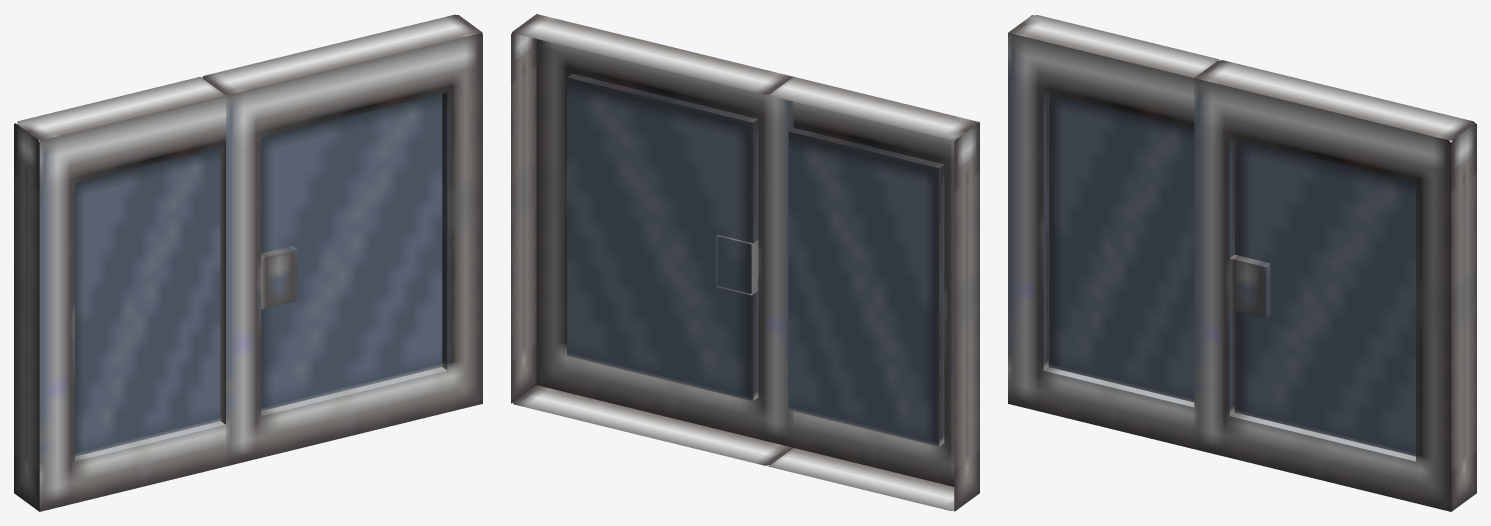
The model's file is Poly_SF_Outside_B_Window_01.obj.
3 views of the same model, side by side, from view 1: azimuth 30°, elevation 25°; view 2: azimuth 150°, elevation 25°; view 3: azimuth 330°, elevation 25° (orthographic).
Parts seen in each view (by area): view 1: Cube.001; view 2: Cube.001; view 3: Cube.001.
Boxes of the visible parts, <box> form: Cube.001: <box>14,14,482,511</box>; Cube.001: <box>511,14,979,511</box>; Cube.001: <box>1008,15,1476,511</box>.
Bounding box in the file's own units: 1 × 0.8 × 0.1.
1 material, 1 textured.
